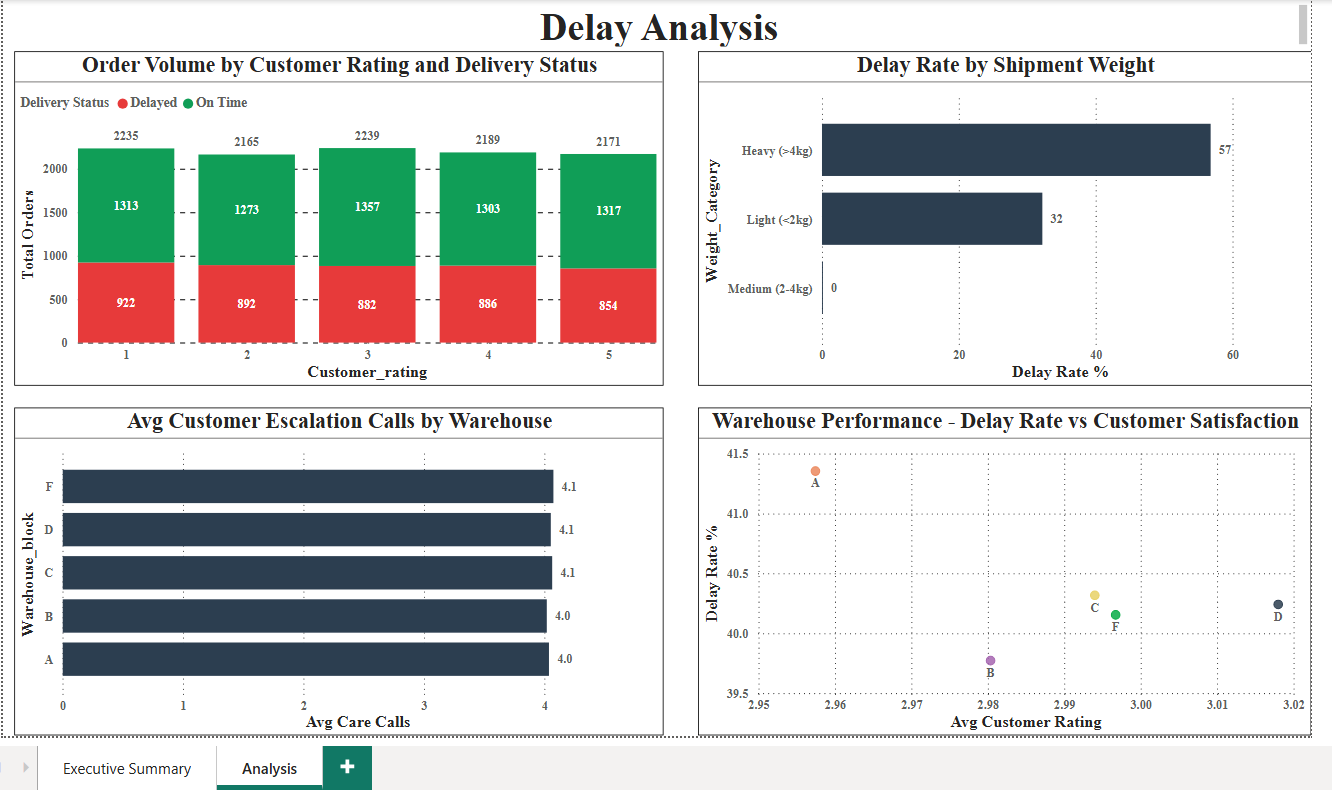

What the dashboard file says about the page in this screenshot:
{"tool":"powerbi","page":{"name":"Analysis","canvas":[1280,720],"ordinal":1},"visuals":[{"type":"textbox","box":[10.4,0,1269.9,50.6],"z":0},{"type":"columnChart","title":"Order Volume by Customer Rating and Delivery Status","fields":{"Category":["Train.Customer_rating"],"Y":["_Measures.Total Orders"],"Series":["Train.Delivery_Status"]},"box":[10.4,50.6,634.9,327.1],"z":1000},{"type":"barChart","title":"Avg Customer Escalation Calls by Warehouse","fields":{"Category":["Train.Warehouse_block"],"Y":["_Measures.Avg Care Calls"]},"box":[10.4,398.5,634.9,321.2],"z":2000},{"type":"barChart","title":"Delay Rate by Shipment Weight","fields":{"Category":["Train.Weight_Category"],"Y":["_Measures.Delay Rate %"]},"box":[679.6,50.6,600.7,327.1],"z":3000},{"type":"scatterChart","title":"Warehouse Performance - Delay Rate vs Customer Satisfaction","fields":{"X":["_Measures.Avg Customer Rating"],"Y":["_Measures.Delay Rate %"],"Category":["Train.Warehouse_block"]},"box":[680,399,600,321],"z":4000}]}

Visuals, with their boxes in screenshot pixels (x1, y1, x2, y2):
textbox: [7,0,1310,48]
"Order Volume by Customer Rating and Delivery Status" columnChart: [7,48,659,384]
"Avg Customer Escalation Calls by Warehouse" barChart: [7,405,659,735]
"Delay Rate by Shipment Weight" barChart: [694,48,1310,384]
"Warehouse Performance - Delay Rate vs Customer Satisfaction" scatterChart: [694,406,1310,735]
